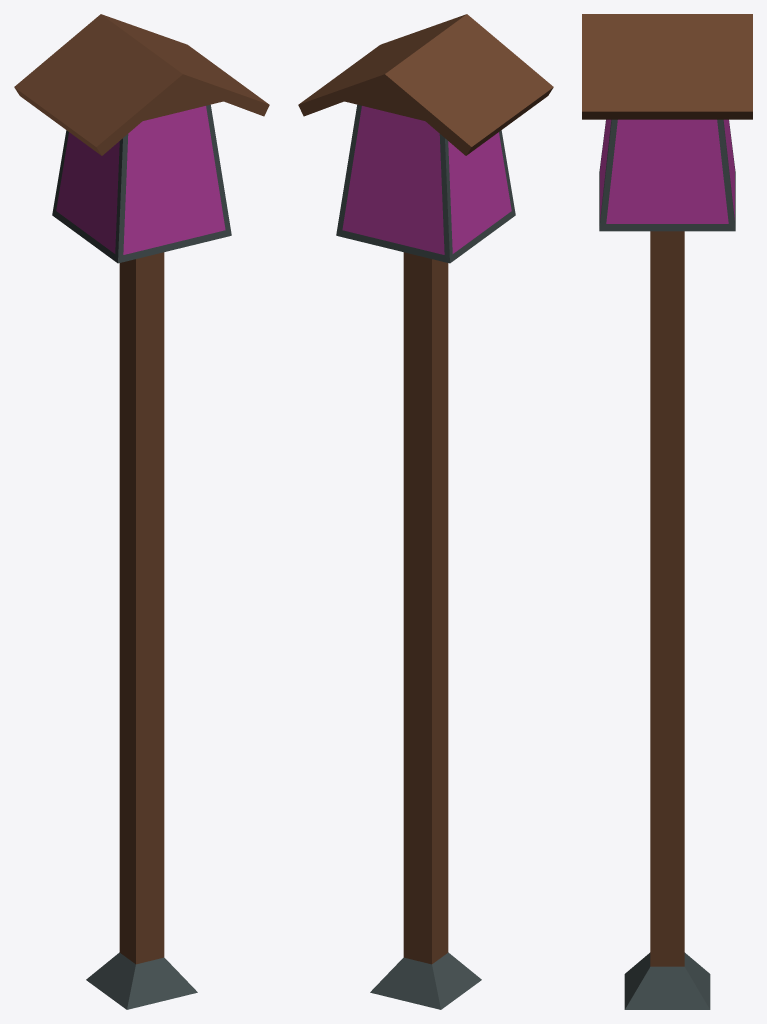
File: Lamp_3_Purple.fbx
3 views of the same model, side by side, from view 1: azimuth 30°, elevation 25°; view 2: azimuth 150°, elevation 25°; view 3: azimuth 270°, elevation 25° (orthographic). The views are drawn at different scales.
Parts seen in each view (by area): view 1: Lamp_3_Purple; view 2: Lamp_3_Purple; view 3: Lamp_3_Purple.
Boxes of the visible parts, bbox=[...] form: Lamp_3_Purple: bbox=[14, 14, 269, 1009]; Lamp_3_Purple: bbox=[298, 14, 553, 1009]; Lamp_3_Purple: bbox=[582, 14, 752, 1009].
Size of the model in its own units: 60.93 by 316 by 50.
